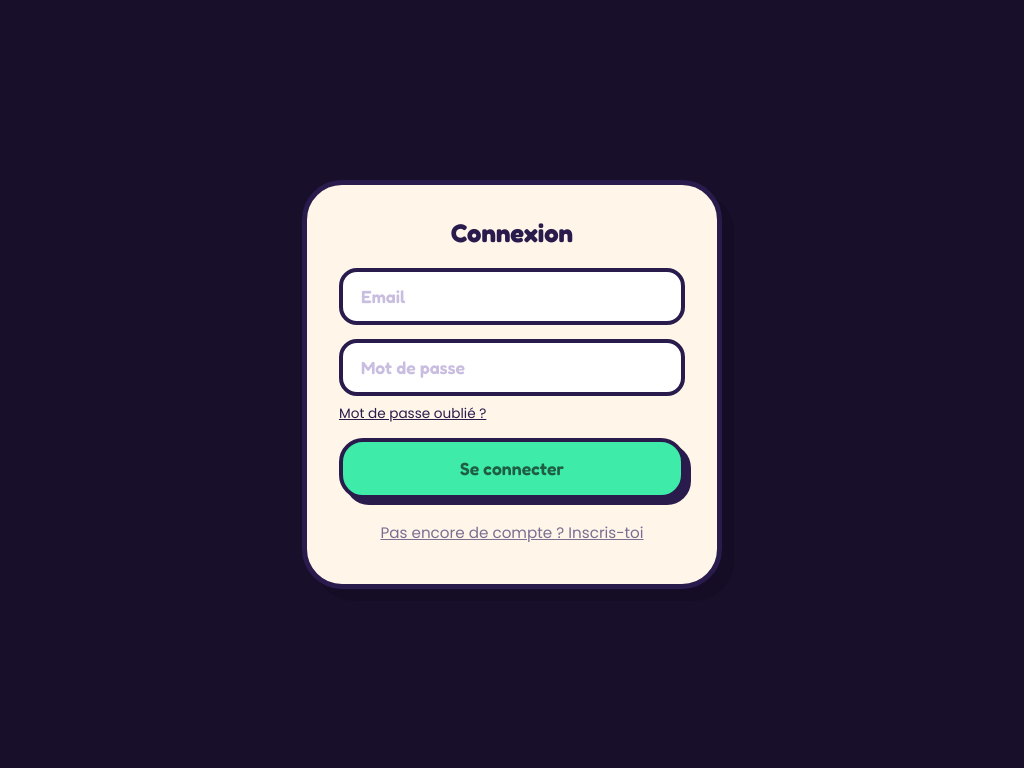
Test: AuthOverlay › says the account is usable before confirming
Click the button "Pas encore de compte ? Inscris-toi".
click(512, 532)  # box [339,512,685,552]
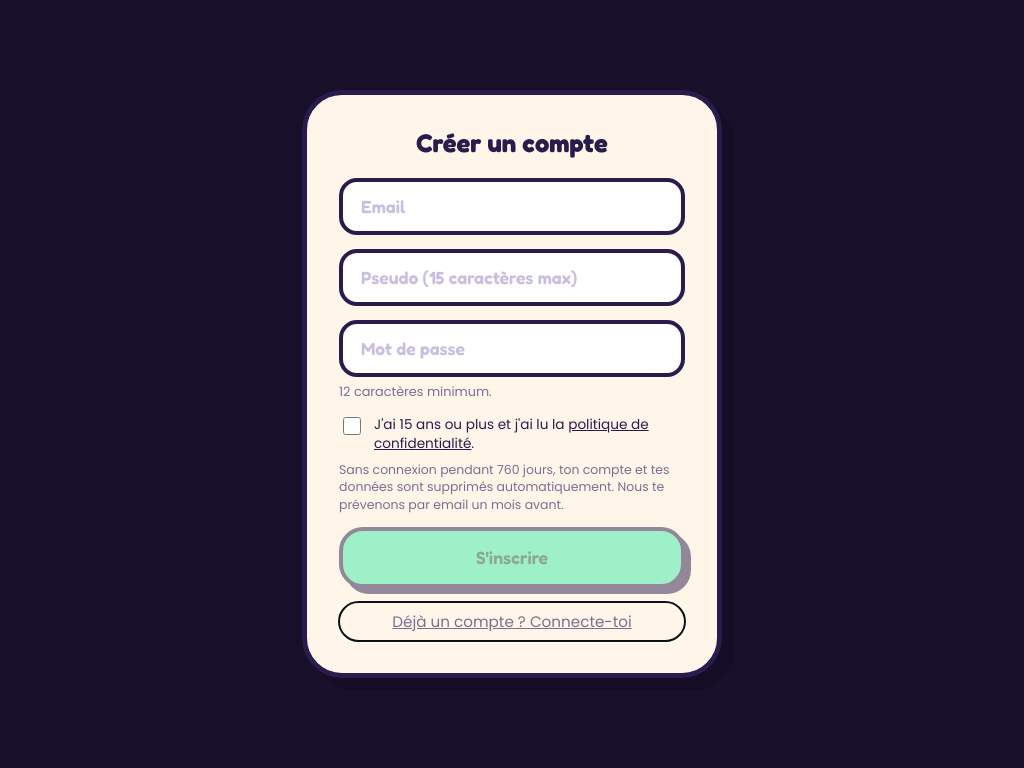
Type "lea@example.com" into the field with placeholder "Email".
click(512, 206); type("lea@example.com")  # box [339,178,685,235]
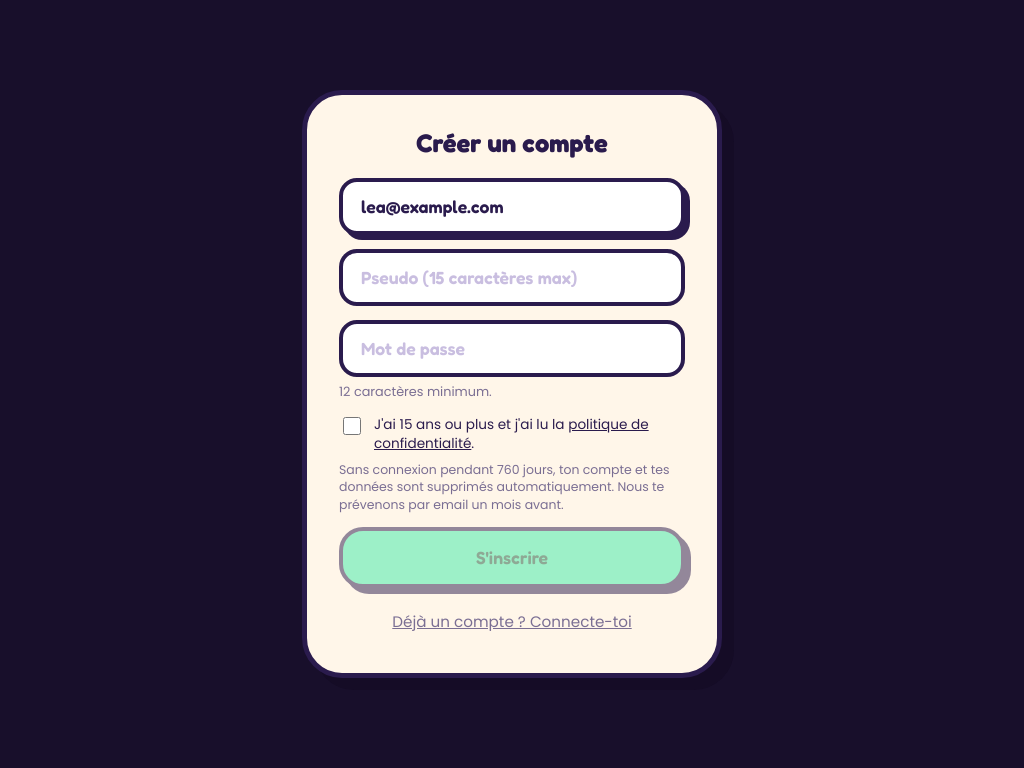
Type "Léa" into the field with placeholder "Pseudo (15 caractères max)".
click(512, 277); type("Léa")  # box [339,249,685,306]
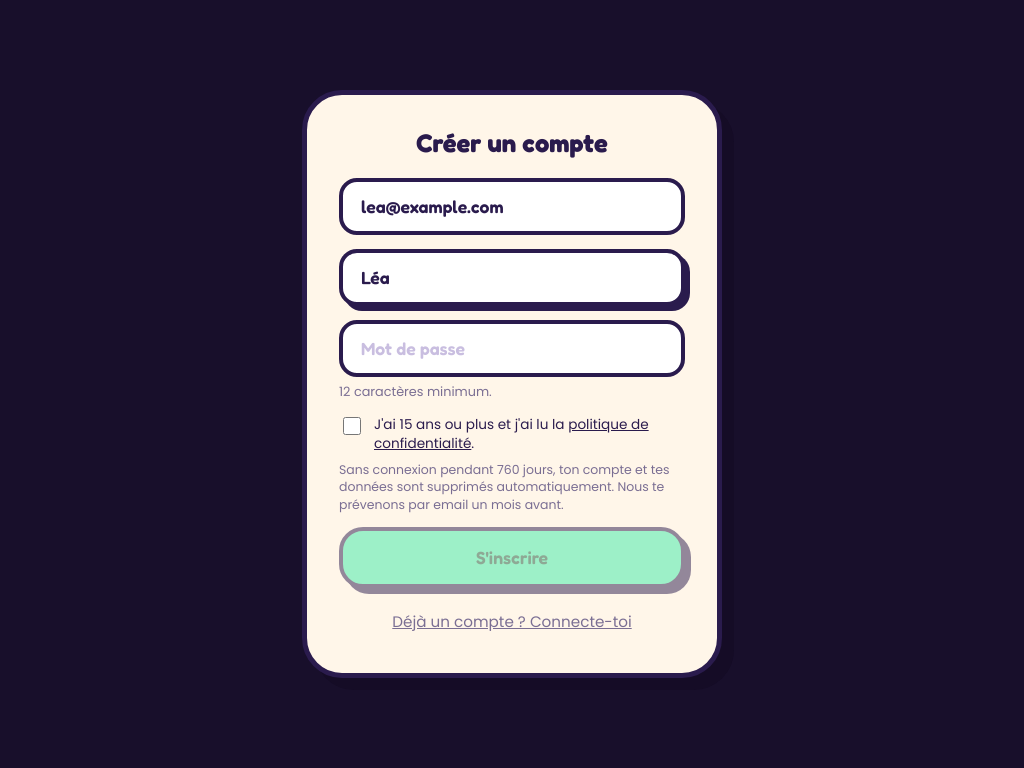
Type "correct horse battery" into the password field with placeholder "Mot de passe".
click(512, 348); type("correct horse battery")  # box [339,320,685,377]
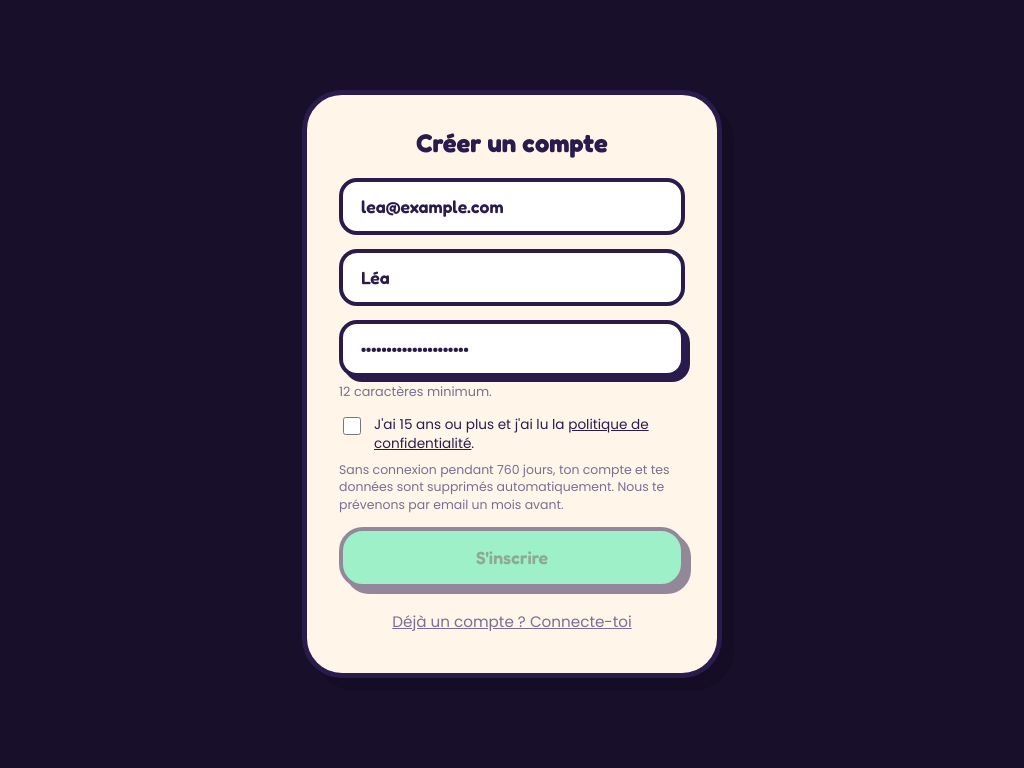
Click the checkbox.
click(352, 426)  # box [343,417,361,435]
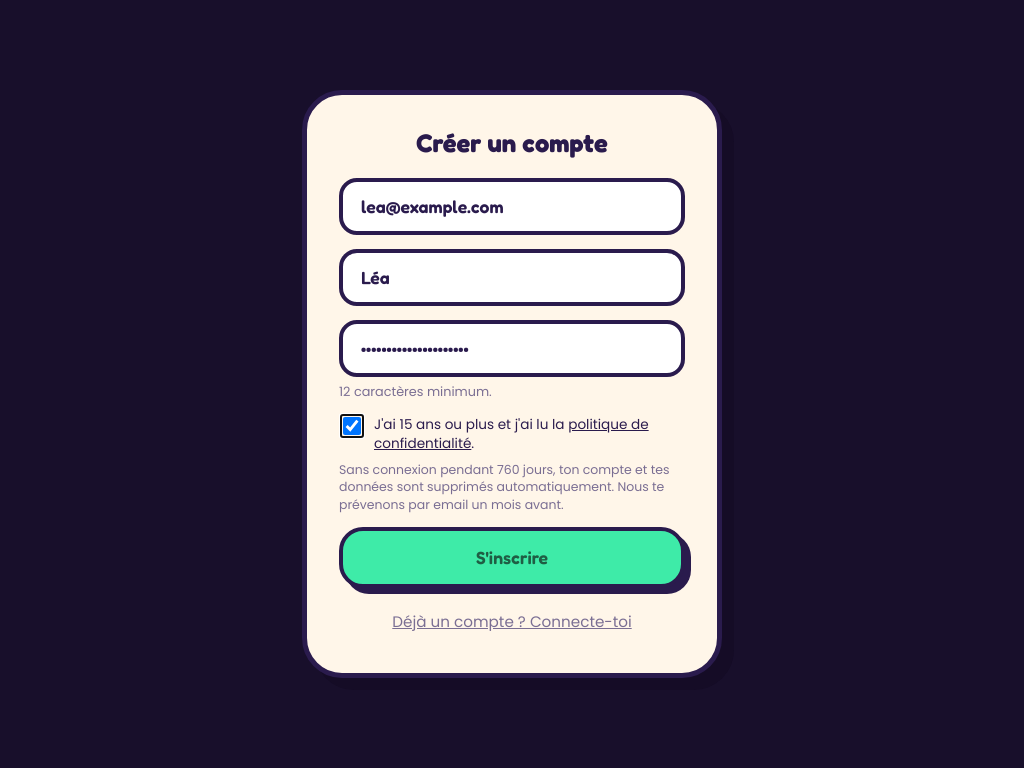
Click the button "S'inscrire".
click(512, 558)  # box [339,527,685,588]
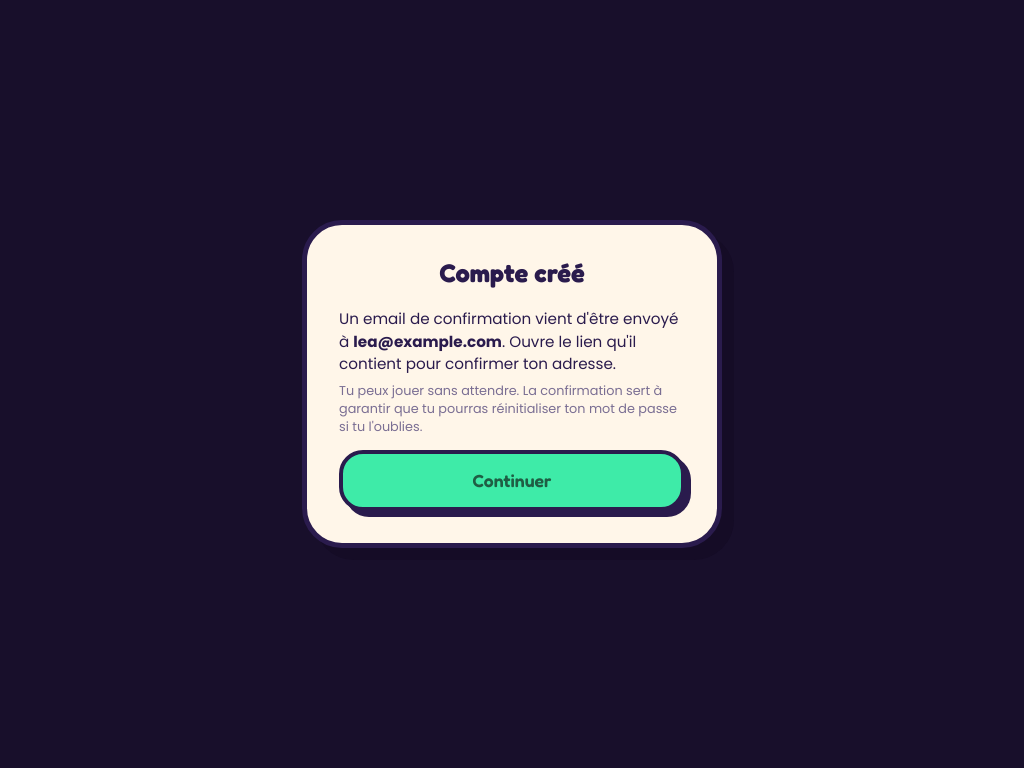
Check: the text "Tu peux jouer sans attendre" is shown, box [339,382,677,435]
